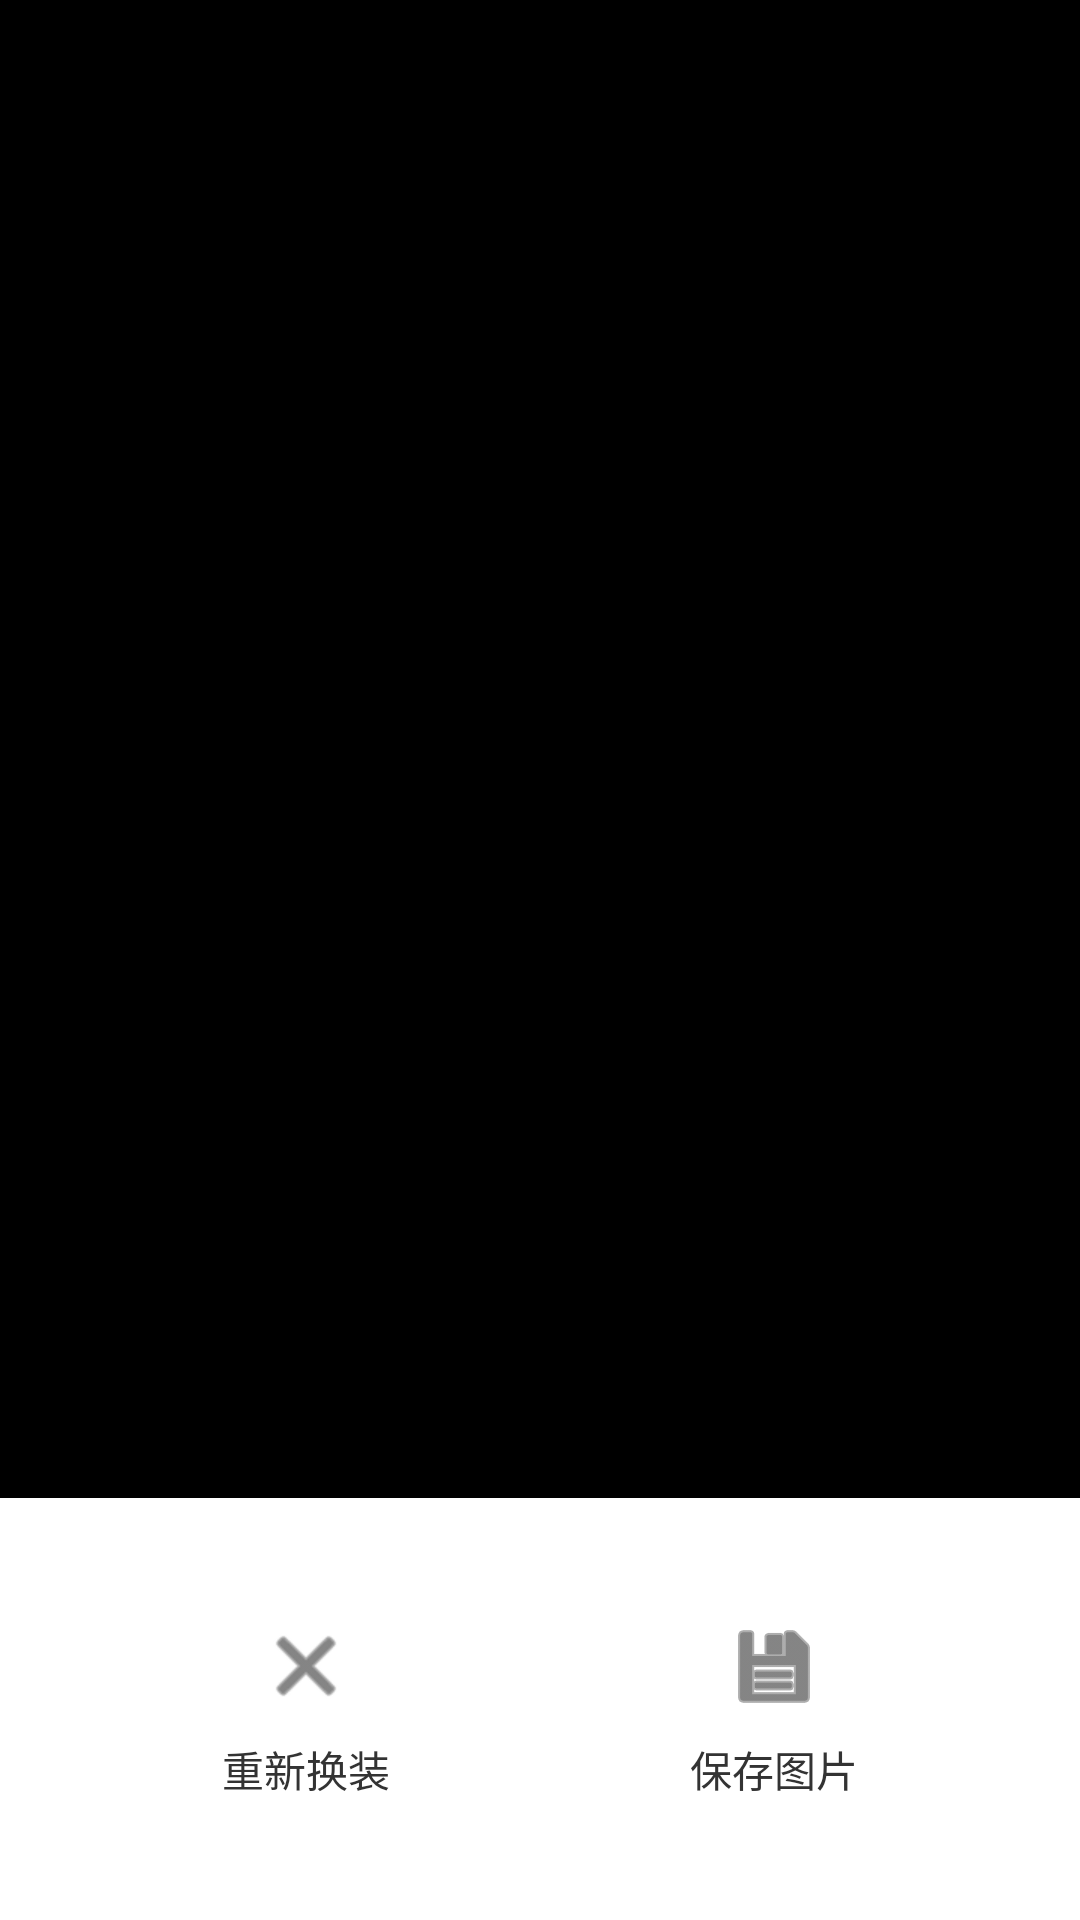

Locate icon controls on the screen. Image size 1080x1920, boxes as {"x1": x1, "y1": y1, "x2": x2, "y2": y2}.
close clear cancel: {"x1": 276, "y1": 1636, "x2": 336, "y2": 1696}
save: {"x1": 738, "y1": 1630, "x2": 810, "y2": 1703}
